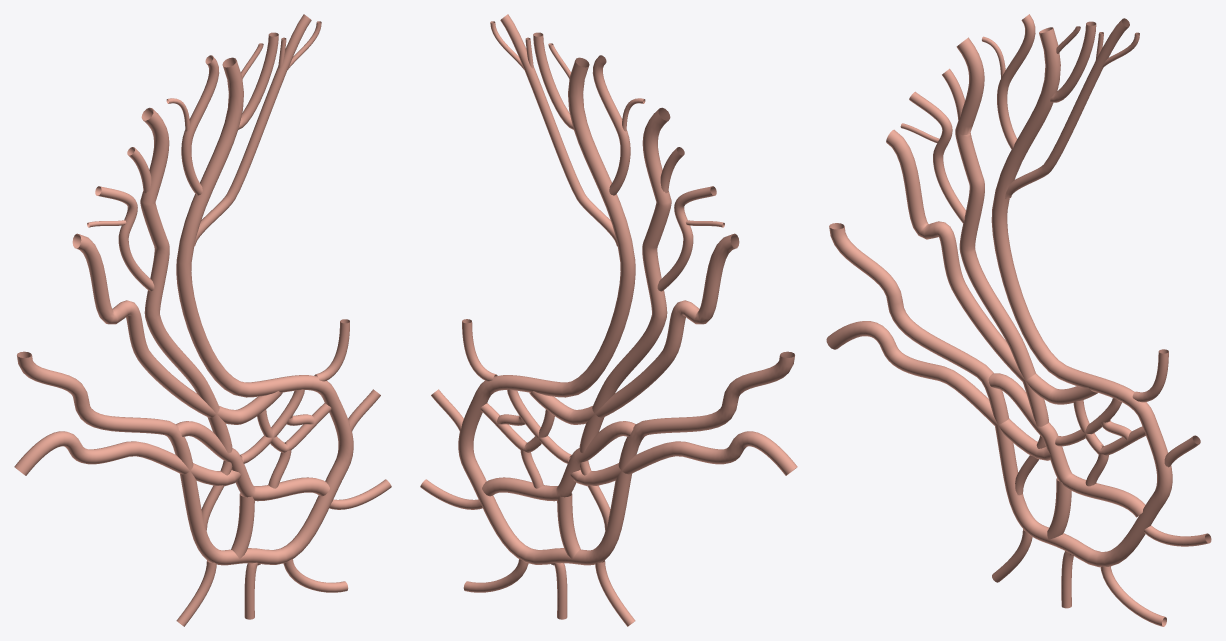
File: RedSeminifera.glb
3 views of the same model, side by side, from view 1: azimuth 30°, elevation 25°; view 2: azimuth 150°, elevation 25°; view 3: azimuth 330°, elevation 25° (orthographic).
Parts seen in each view (by area): view 1: Red; view 2: Red; view 3: Red.
Part boxes in pixels (x1,y1,x2,y2): Red: (14,14,391,626); Red: (420,14,797,626); Red: (826,14,1211,626).
Bounding box in the file's own units: 1.7 × 2.56 × 0.06.
